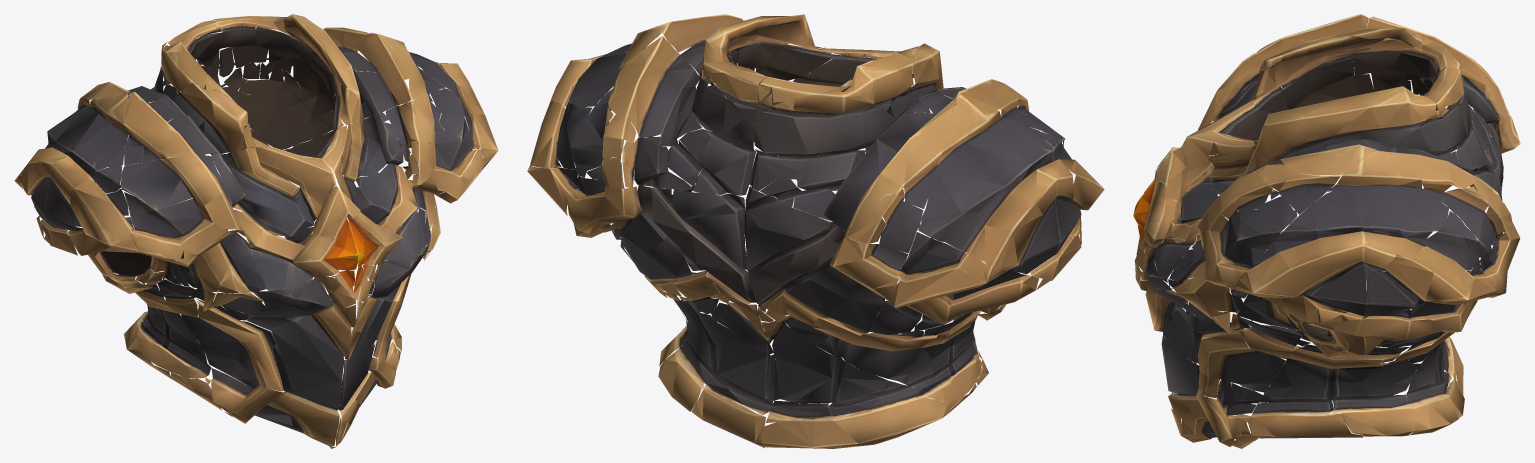
The model's file is titanheart_plate.glb.
3 views of the same model, side by side, from view 1: azimuth 30°, elevation 25°; view 2: azimuth 150°, elevation 25°; view 3: azimuth 270°, elevation 25° (orthographic). The views are drawn at different scales.
Visible parts, largest first — view 1: tripo_node_671fb513-6efb-419c-8da8-8789b850aa95; view 2: tripo_node_671fb513-6efb-419c-8da8-8789b850aa95; view 3: tripo_node_671fb513-6efb-419c-8da8-8789b850aa95.
Boxes of the visible parts, left/top/right/bottom form: tripo_node_671fb513-6efb-419c-8da8-8789b850aa95: left=14, top=14, right=498, bottom=448; tripo_node_671fb513-6efb-419c-8da8-8789b850aa95: left=527, top=14, right=1104, bottom=448; tripo_node_671fb513-6efb-419c-8da8-8789b850aa95: left=1133, top=14, right=1520, bottom=448.
Bounding box in the file's own units: 0.7501 × 0.6024 × 0.5468.
1 material, 1 textured.
